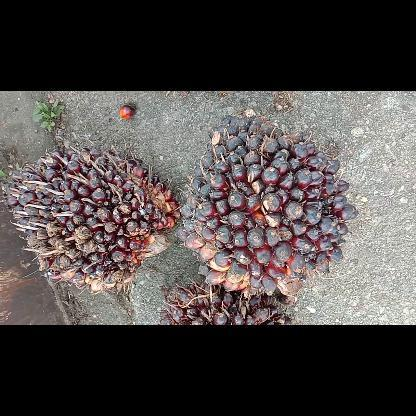TBS mentah: (178, 114, 358, 298), (1, 148, 180, 288), (161, 284, 291, 324)
